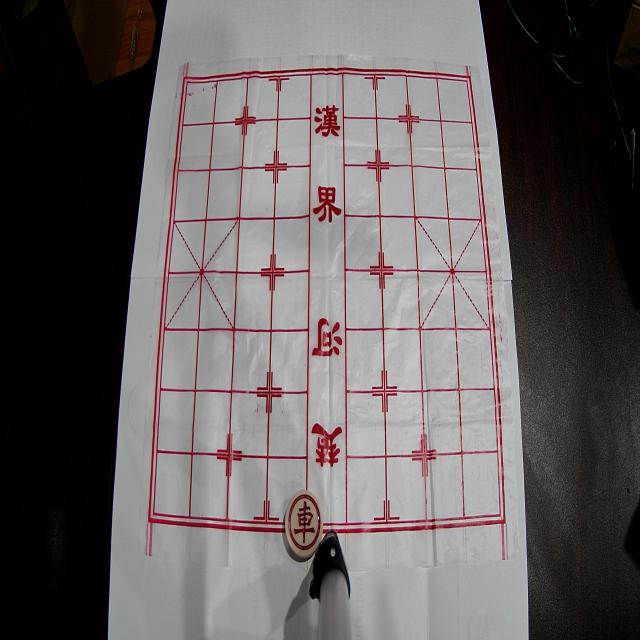red-chariot: (285, 489, 323, 558)
